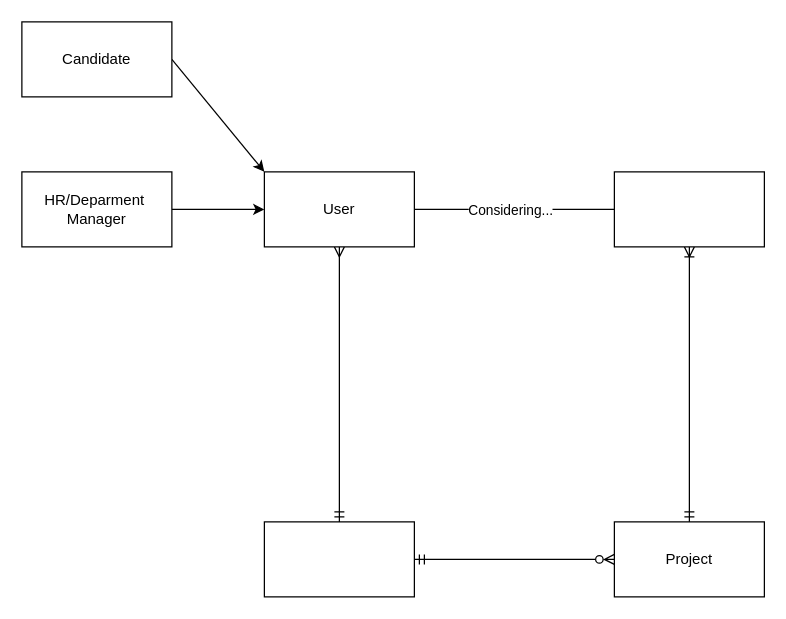
The diagram is 786 pixels wide and 619 high, and some of its shapes have lost their labels. The centre of each missing label's shape, as x and y in pixels:
Department: (338,559)
Scheduler: (688,209)
